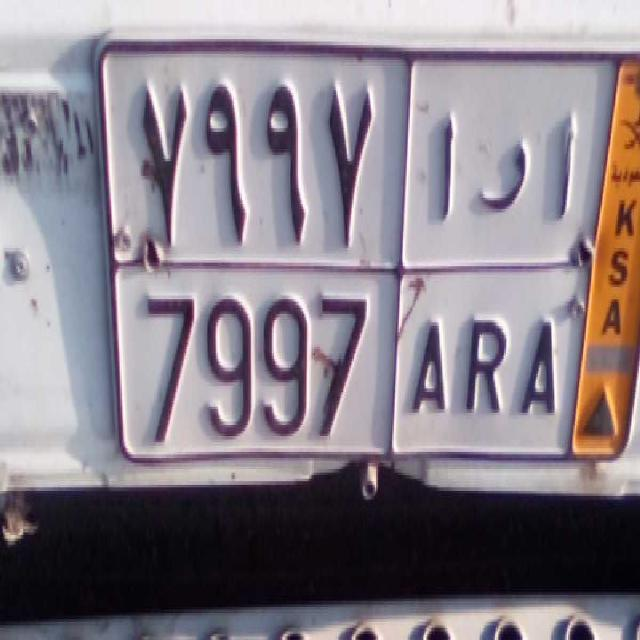license_plate: (117, 252, 582, 458)
